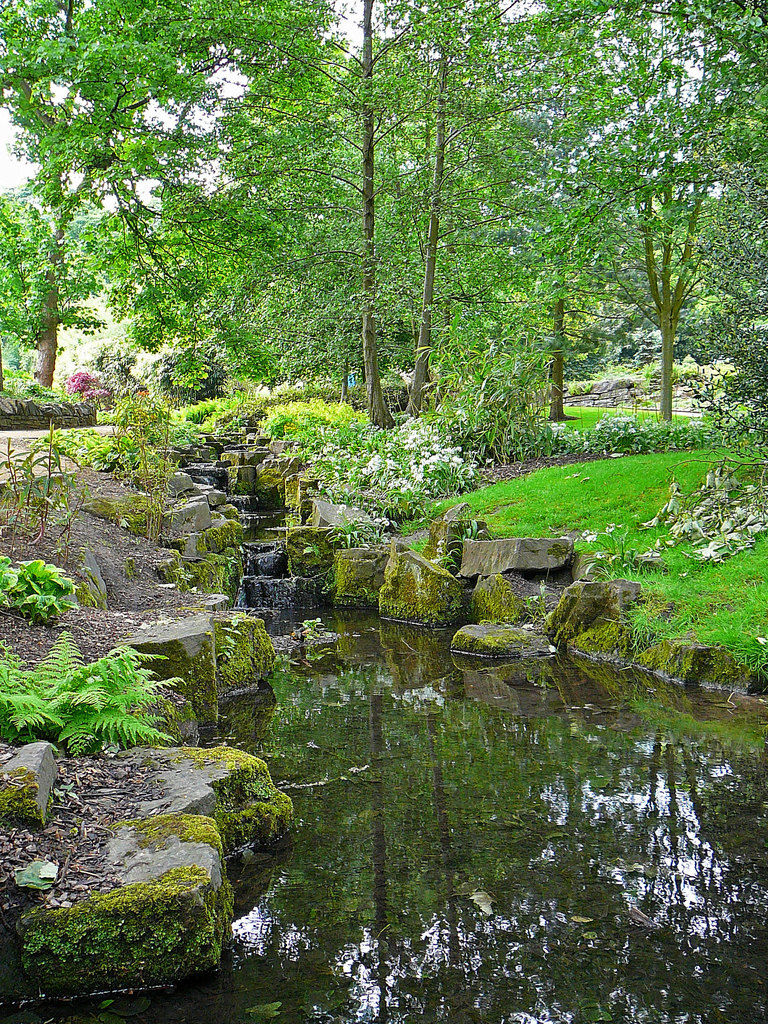Tree: (0, 0, 665, 438), (504, 0, 759, 418)
